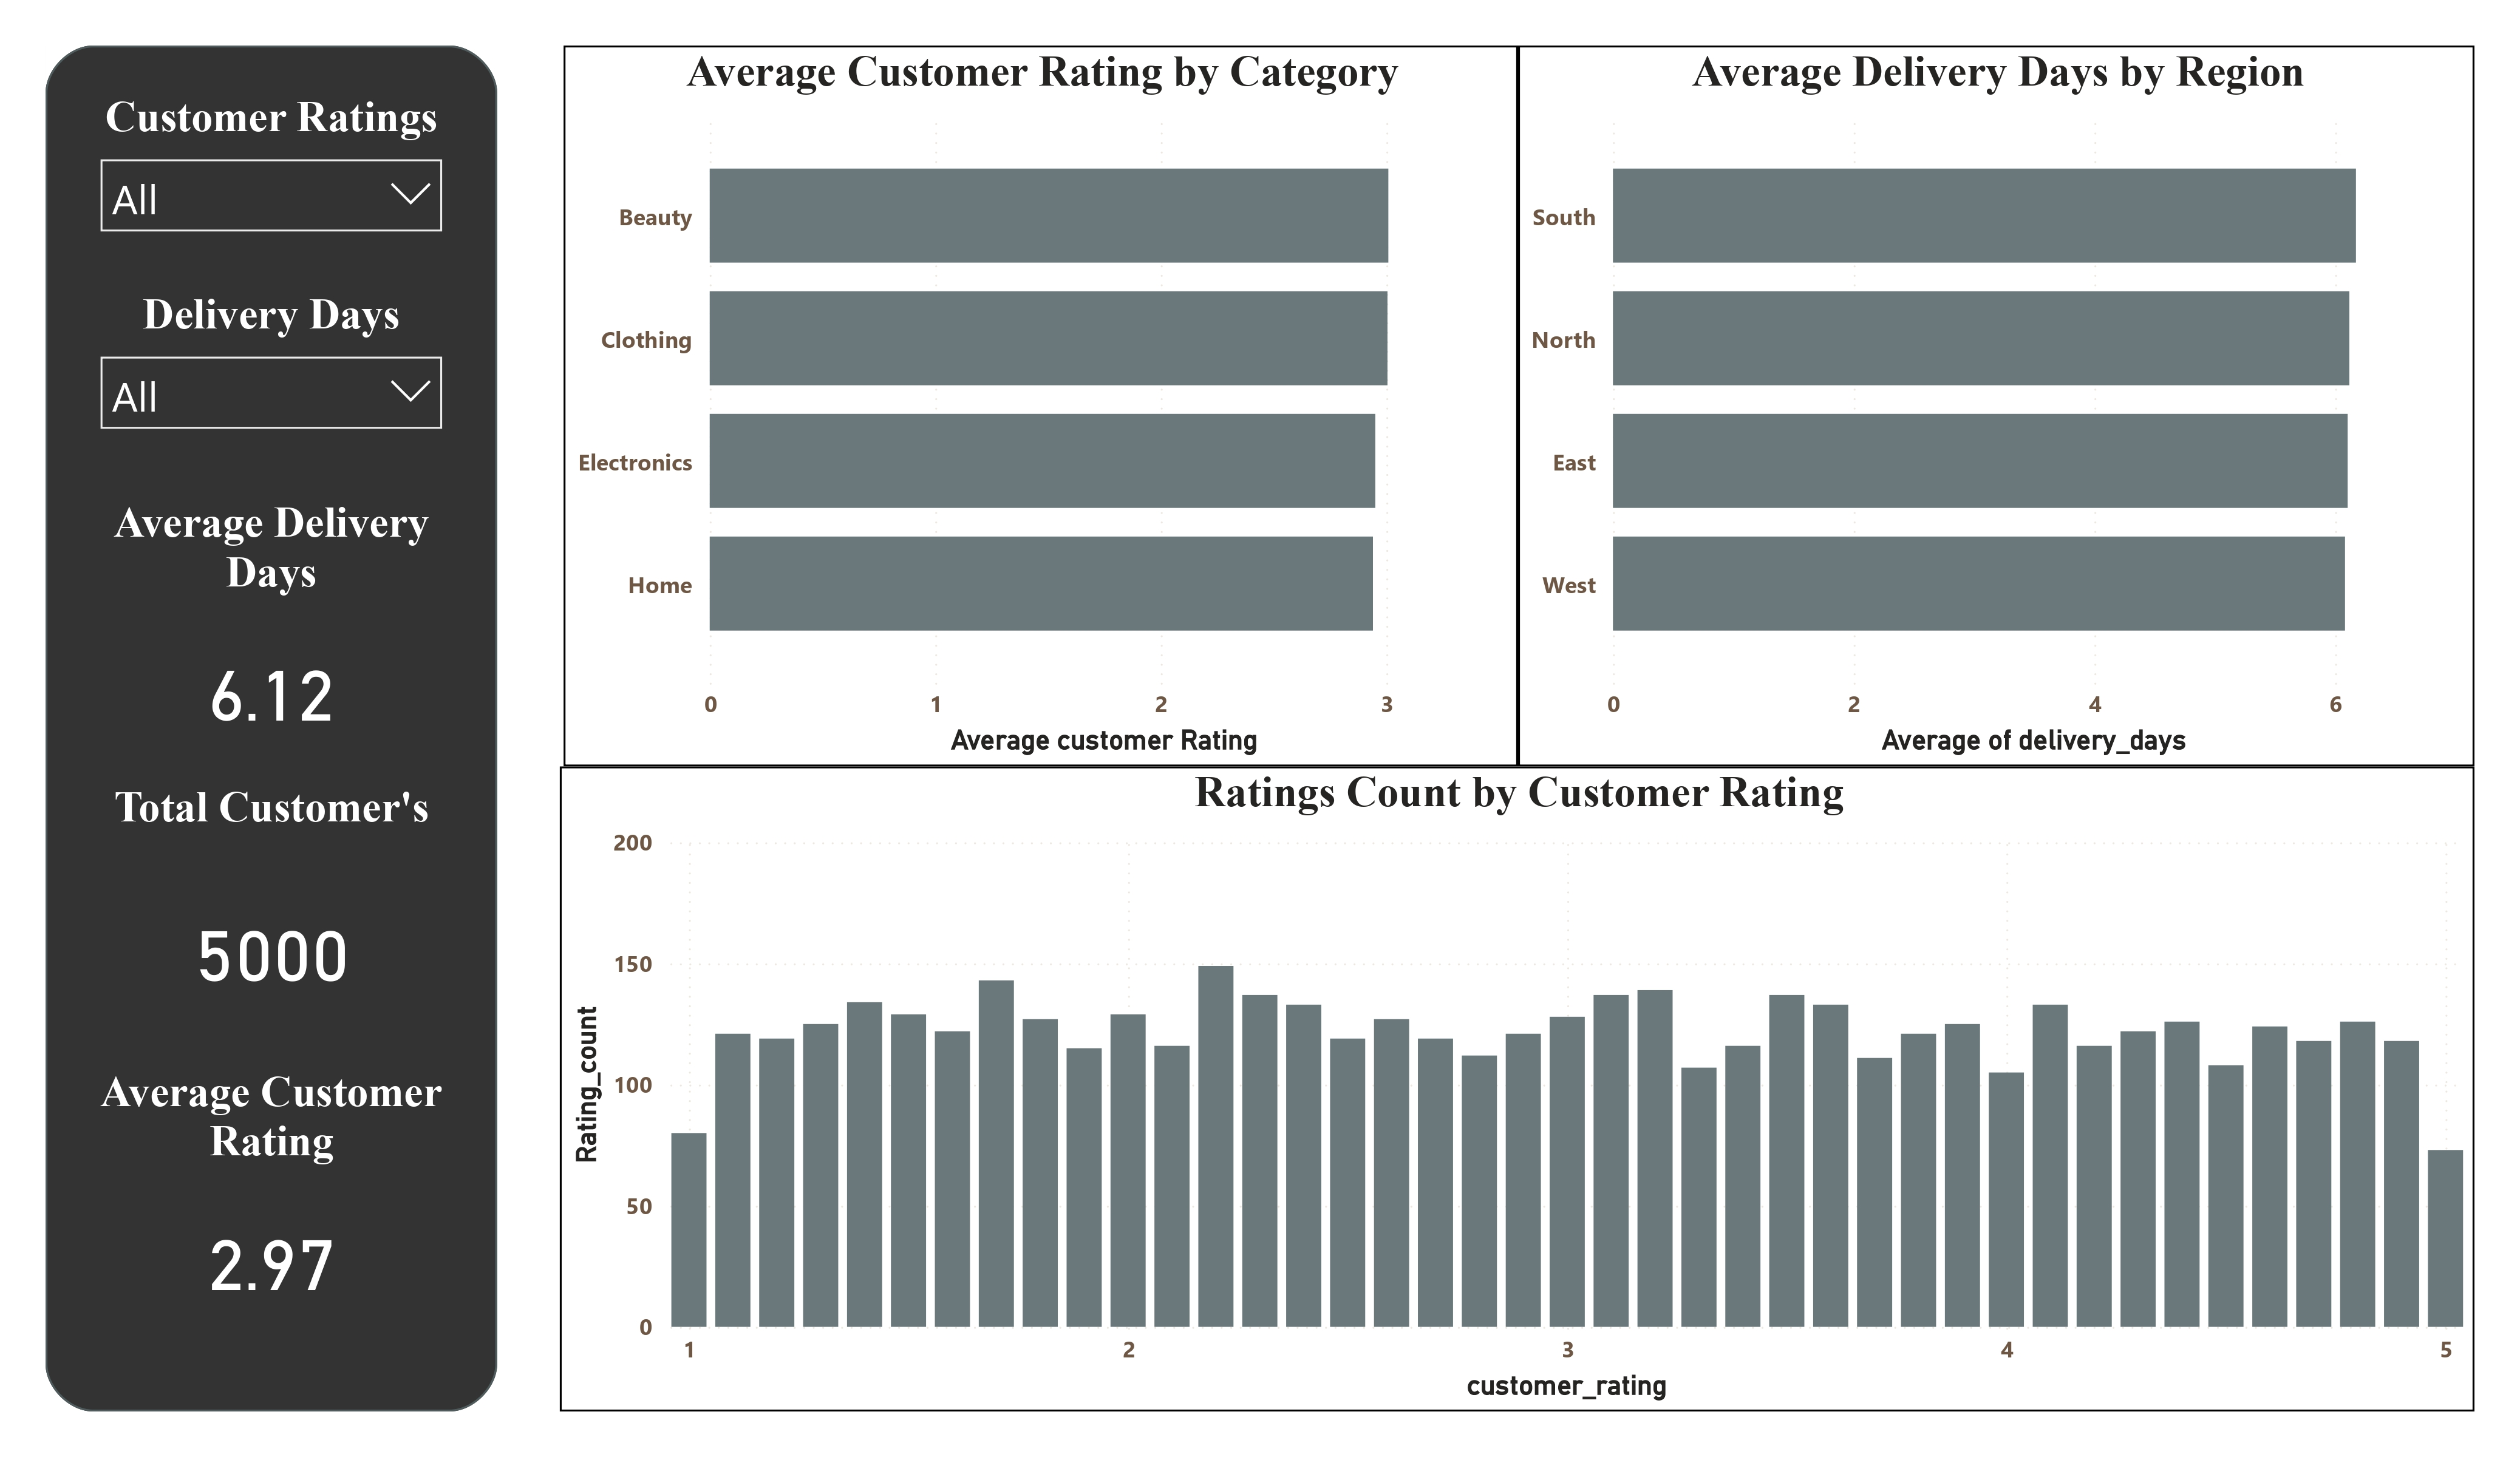

The dashboard page shown, as its layout file describes it:
{"tool":"powerbi","page":{"name":"Customer & Satisfaction Analysis","canvas":[1280,720],"ordinal":2},"visuals":[{"type":"shape","box":[0,0,237.5,720],"z":0},{"type":"card","title":"Total Customer''s ","fields":{"Values":["CountNonNull(ecommerce_sales_analytics_5000.customer_id)"]},"box":[18.8,388.8,200,150],"z":1000},{"type":"card","title":"Average Customer Rating","fields":{"Values":["Avg(ecommerce_sales_analytics_5000.customer_rating)"]},"box":[18.8,538.8,200,150],"z":2000},{"type":"card","title":"Average Delivery Days","fields":{"Values":["Avg(ecommerce_sales_analytics_5000.delivery_days)"]},"box":[18.8,238.8,200,150],"z":3000},{"type":"clusteredColumnChart","title":"Ratings Count by Customer Rating","fields":{"Y":["ecommerce_sales_analytics_5000.count_of_order_ID"],"Category":["ecommerce_sales_analytics_5000.customer_rating"]},"box":[271.2,380,1008.8,340],"z":4000},{"type":"barChart","title":"Average  Customer Rating by Category","fields":{"Category":["ecommerce_sales_analytics_5000.product_category"],"Y":["Avg(ecommerce_sales_analytics_5000.customer_rating)"]},"box":[272.5,0,503.8,380],"z":5000},{"type":"barChart","title":"Average Delivery Days by Region","fields":{"Category":["ecommerce_sales_analytics_5000.region"],"Y":["Avg(ecommerce_sales_analytics_5000.delivery_days)"]},"box":[776.2,0,504,380],"z":6000},{"type":"slicer","title":"Customer Ratings","fields":{"Values":["ecommerce_sales_analytics_5000.customer_rating"]},"box":[18.8,25,200,103.8],"z":7000},{"type":"slicer","title":"Delivery Days","fields":{"Values":["ecommerce_sales_analytics_5000.delivery_days"]},"box":[18.8,128.8,200,110],"z":8000}]}

Visuals, with their boxes on the page's 1280x720 design canvas (x1, y1, x2, y2). These are canvas units, not pixel positions in the 2520x1457 screenshot, which may show the page scaled, cropped or inside an application window:
shape: (0,0,238,720)
"Total Customer''s " card: (19,389,219,539)
"Average Customer Rating" card: (19,539,219,689)
"Average Delivery Days" card: (19,239,219,389)
"Ratings Count by Customer Rating" clusteredColumnChart: (271,380,1280,720)
"Average  Customer Rating by Category" barChart: (272,0,776,380)
"Average Delivery Days by Region" barChart: (776,0,1280,380)
"Customer Ratings" slicer: (19,25,219,129)
"Delivery Days" slicer: (19,129,219,239)
